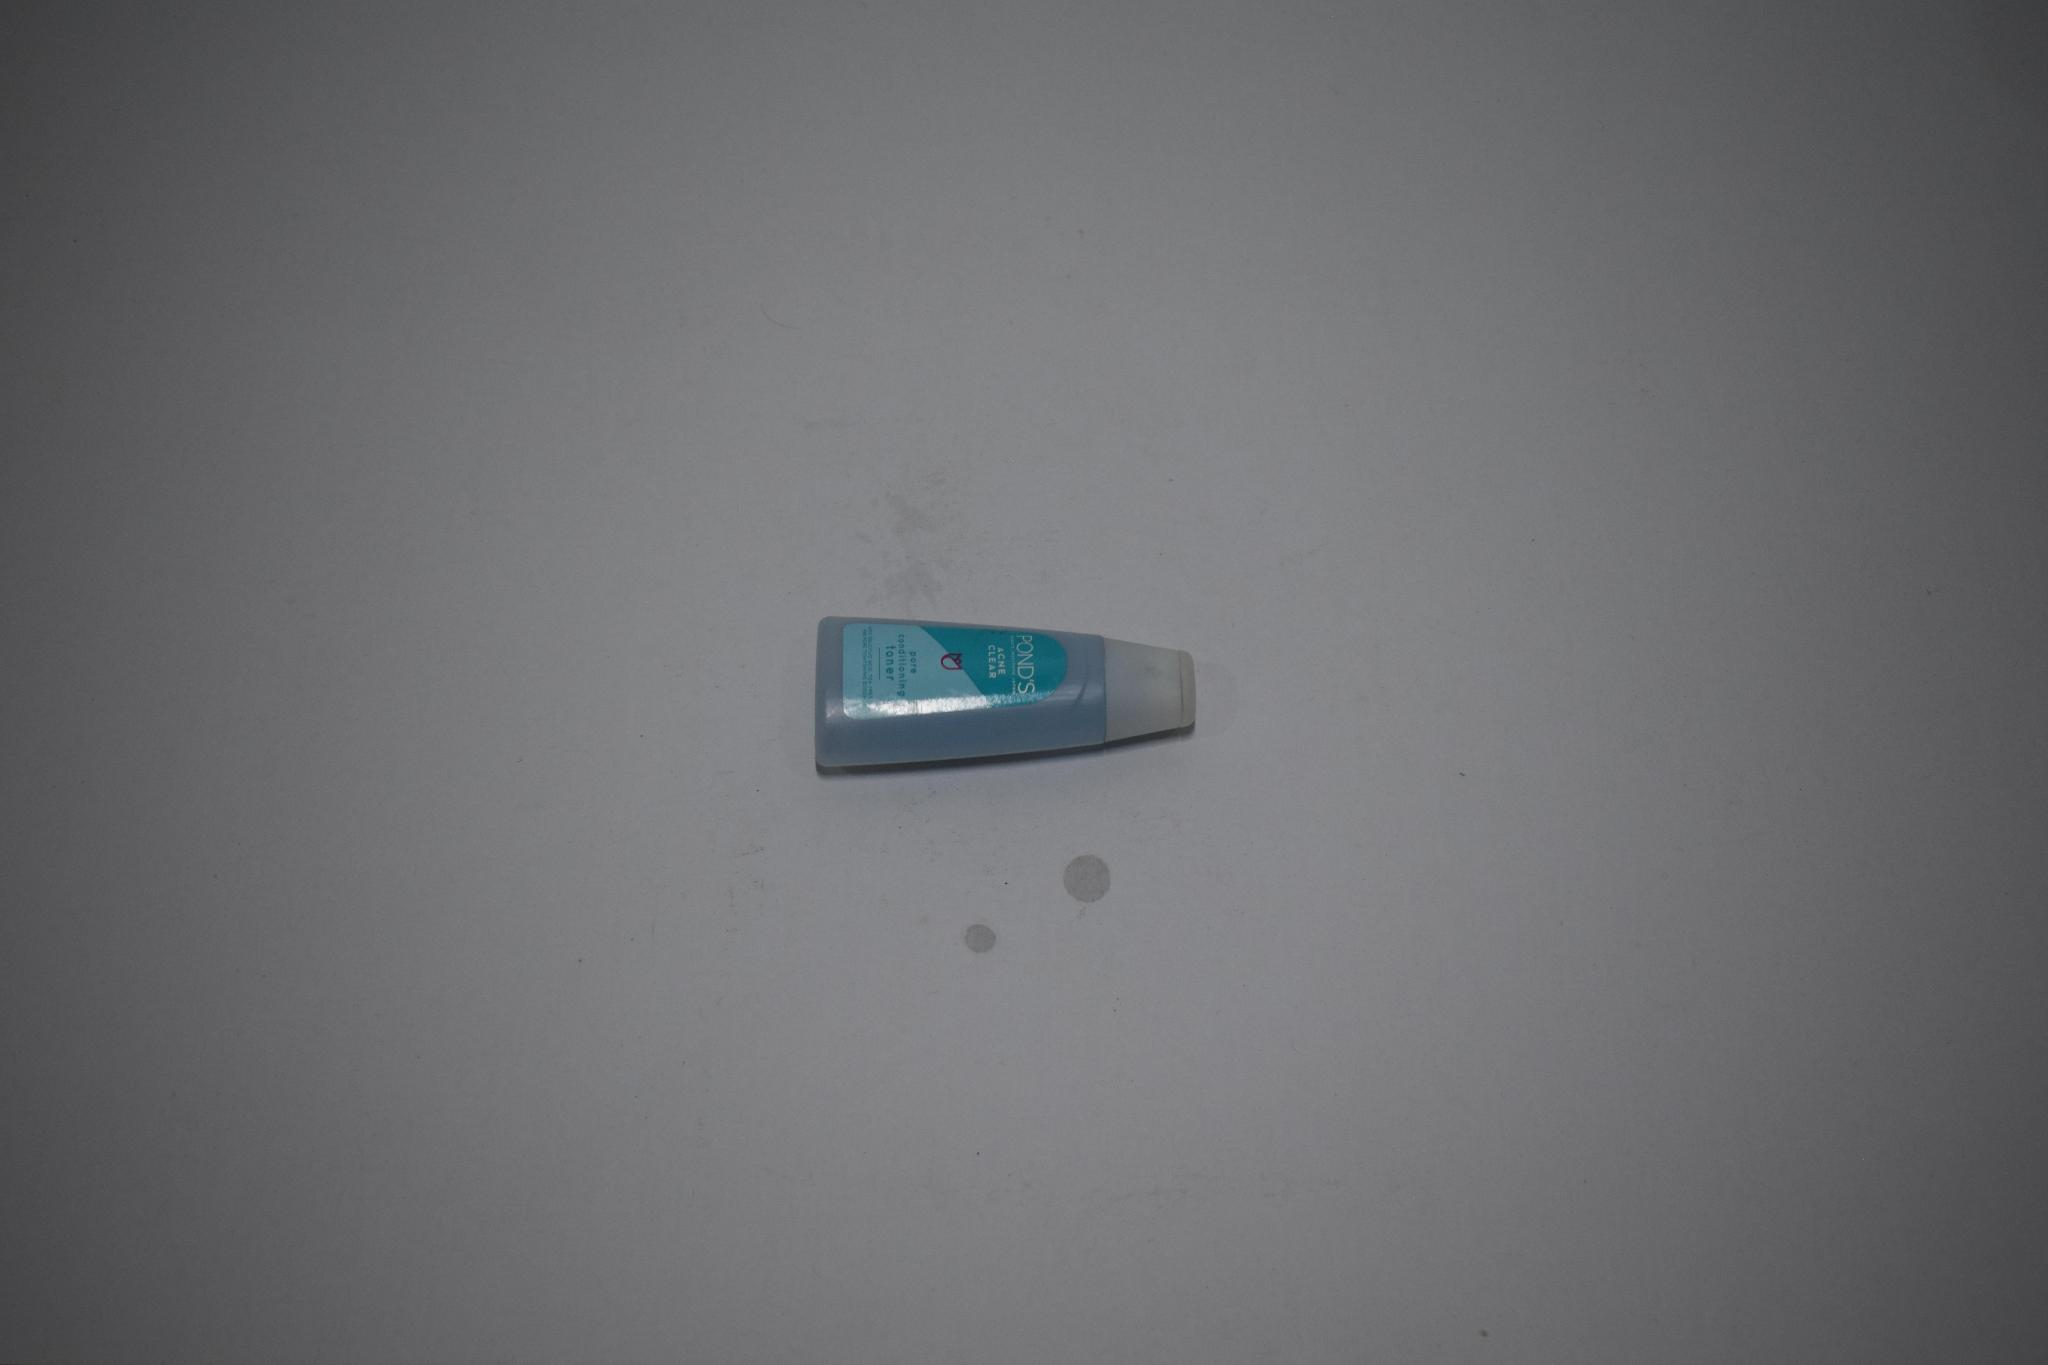bottle: (809, 587, 1203, 795)
